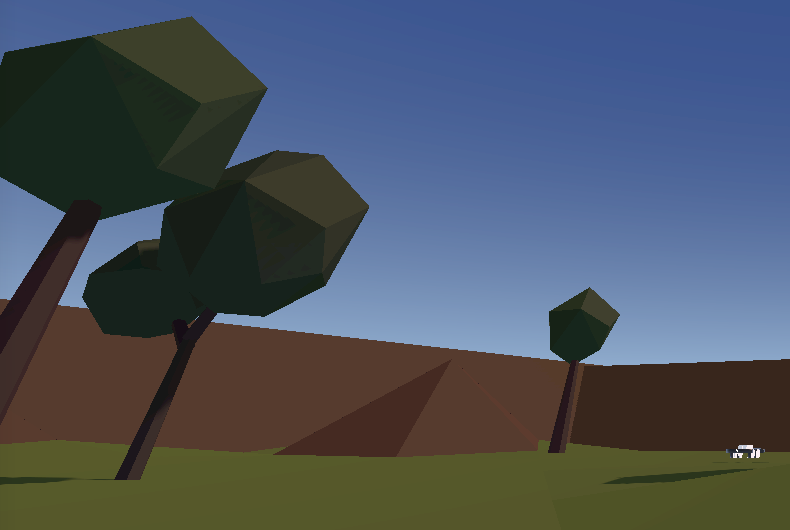tree: (1, 14, 369, 478), (547, 283, 620, 454)
